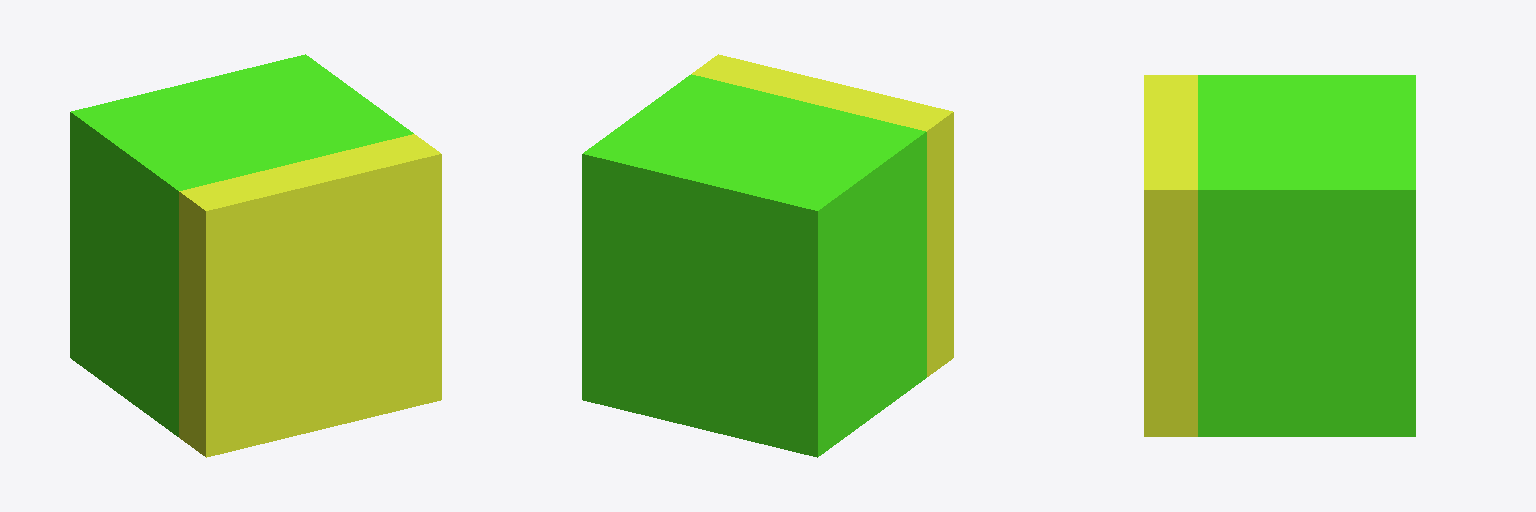
The model's file is player2.obj.
The picture shows the model from 3 angles: view 1: azimuth 30°, elevation 25°; view 2: azimuth 150°, elevation 25°; view 3: azimuth 270°, elevation 25°; orthographic projection.
Parts seen in each view (by area): view 1: mergedBlocks; view 2: mergedBlocks; view 3: mergedBlocks.
Boxes of the visible parts, <box> form: mergedBlocks: <box>70,54,441,457</box>; mergedBlocks: <box>582,54,953,457</box>; mergedBlocks: <box>1144,75,1415,436</box>.
Bounding box in the file's own units: 1 × 1 × 1.